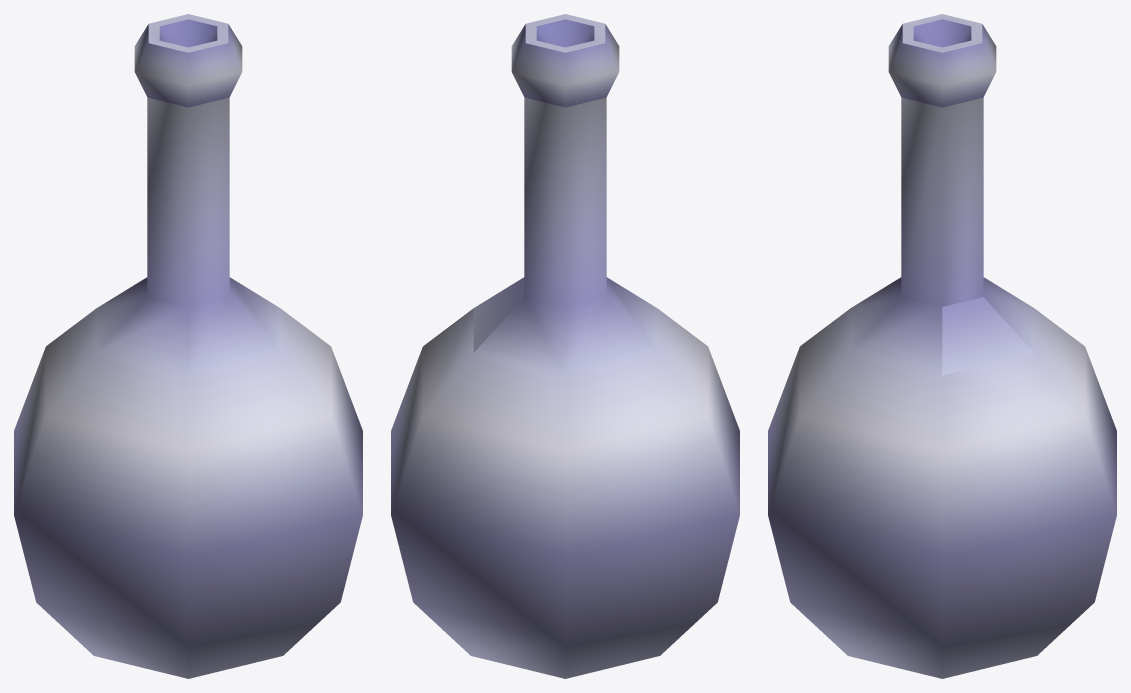
File: SK_Porcelain_002.FBX
3 renders of one model, left to right at view 1: azimuth 30°, elevation 25°; view 2: azimuth 150°, elevation 25°; view 3: azimuth 270°, elevation 25°, orthographic.
Parts seen in each view (by area): view 1: SK_Porcelain_002; view 2: SK_Porcelain_002; view 3: SK_Porcelain_002.
Part boxes in pixels (x1=…): SK_Porcelain_002: x1=14, y1=14, x2=362, y2=678; SK_Porcelain_002: x1=391, y1=14, x2=739, y2=678; SK_Porcelain_002: x1=768, y1=14, x2=1116, y2=678.
Bounding box in the file's own units: 18.08 × 29.68 × 15.65.
1 material, 1 textured.
